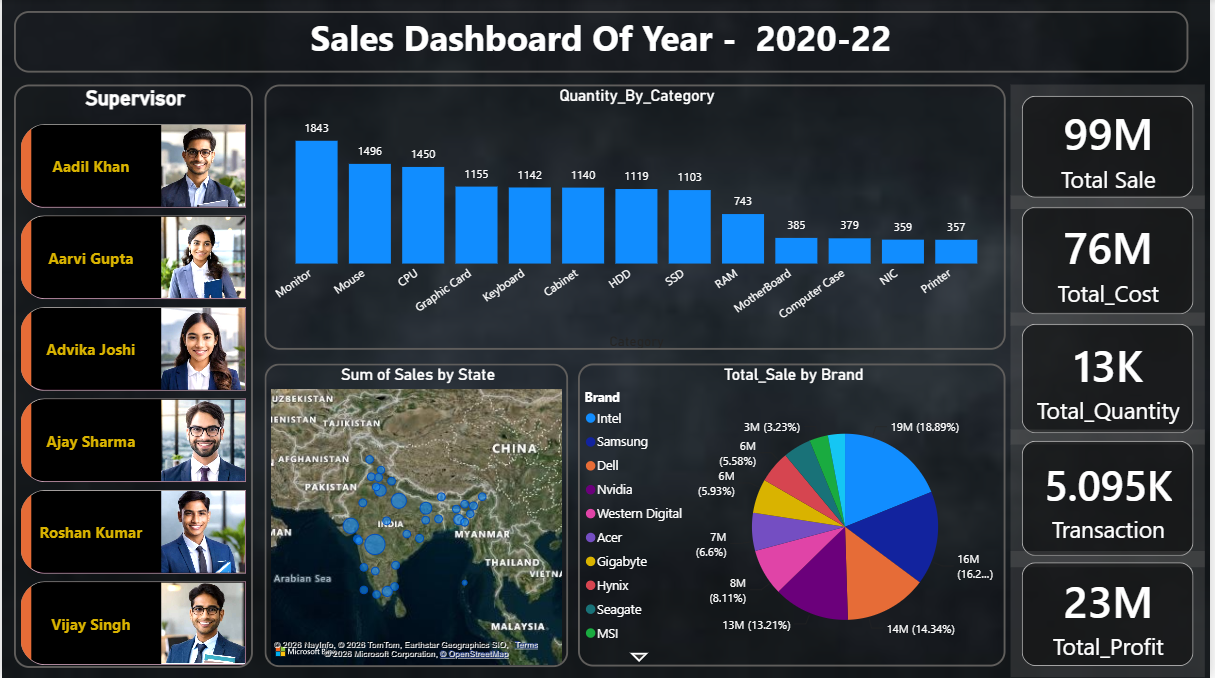

The page's visual inventory and layout, read from the dashboard file:
{"tool":"powerbi","page":{"name":"Page 1","canvas":[1280,720],"ordinal":0},"visuals":[{"type":"textbox","box":[13.3,13.3,1245,65],"z":0},{"type":"cardVisual","fields":{"Data":["Sum(Sales_Data.Total_Cost)"]},"box":[1063.3,208.3,216.7,138.3],"z":1000},{"type":"cardVisual","fields":{"Data":["Sum(Sales_Data.Quantity)"]},"box":[1064,332,216,140],"z":2000},{"type":"cardVisual","fields":{"Data":["CountNonNull(Sales_Data.Order_Number)"]},"box":[1064,456,216,146],"z":3000},{"type":"cardVisual","fields":{"Data":["Sales_Data.Total_Profit"]},"box":[1064,586,216,134],"z":4000},{"type":"cardVisual","fields":{"Data":["Sum(Sales_Data.Total_Sales)"]},"box":[1064,90,216,132],"z":5000},{"type":"clusteredColumnChart","title":"Quantity_By_Category ","fields":{"Y":["Sum(Sales_Data.Quantity)"],"Category":["Sales_Data.Category"]},"box":[278.4,90.7,785.8,281.5],"z":6000},{"type":"pieChart","fields":{"Category":["Sales_Data.Brand"],"Y":["Sum(Sales_Data.Total_Sales)"]},"box":[610.8,386.5,453.3,321.3],"z":7000},{"type":"advancedSlicerVisual","fields":{"Values":["Supervisor.Supervisor"]},"box":[13.3,90,253.3,618.3],"z":8000},{"type":"map","fields":{"Category":["State_list.State"],"Size":["Sum(Sales_Data.Sales)"]},"box":[278.3,386.7,321.7,321.7],"z":9000}]}

Visuals, with their boxes in screenshot pixels (x1, y1, x2, y2), scaled from the page's 1280x720 canvas onto the 1215x678 screenshot:
textbox: 13/13/1194/74
cardVisual - Sum(Sales_Data.Total_Cost): 1009/196/1214/326
cardVisual - Sum(Sales_Data.Quantity): 1010/313/1214/444
cardVisual - CountNonNull(Sales_Data.Order_Number): 1010/429/1214/567
cardVisual - Sales_Data.Total_Profit: 1010/552/1214/677
cardVisual - Sum(Sales_Data.Total_Sales): 1010/85/1214/209
"Quantity_By_Category " clusteredColumnChart: 264/85/1010/350
pieChart - Sales_Data.Brand x Sum(Sales_Data.Total_Sales): 580/364/1010/667
advancedSlicerVisual - Supervisor.Supervisor: 13/85/253/667
map - State_list.State x Sum(Sales_Data.Sales): 264/364/570/667
